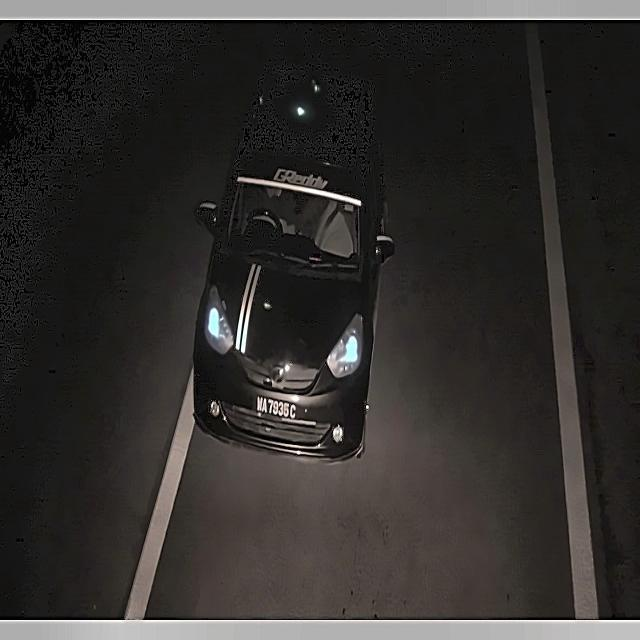car: (251, 389, 301, 428)
